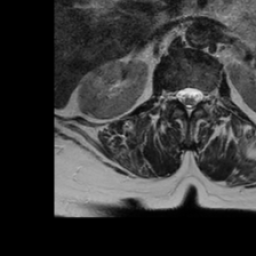CCS_normal: (184, 79, 193, 122)
LFS_stenosis: (202, 83, 211, 107)
LLS_normal: (193, 79, 202, 110)
RFS_normal: (168, 81, 176, 108)
RLS_normal: (176, 80, 184, 107)
